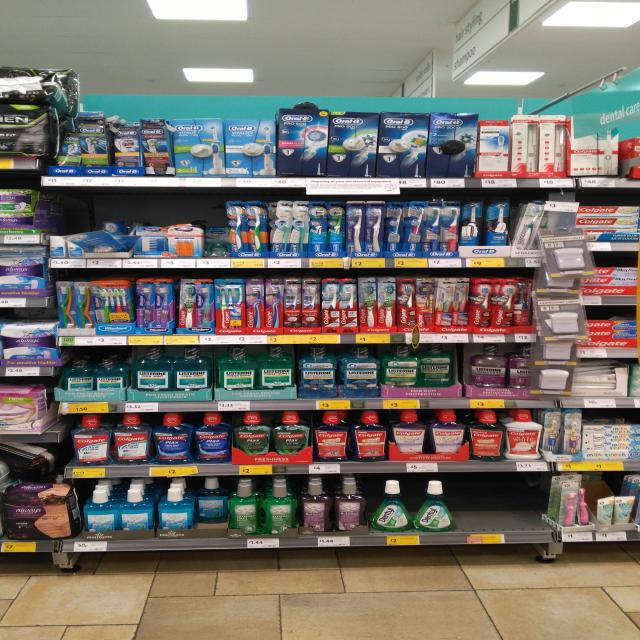void: (508, 474, 554, 548), (465, 477, 503, 548)
